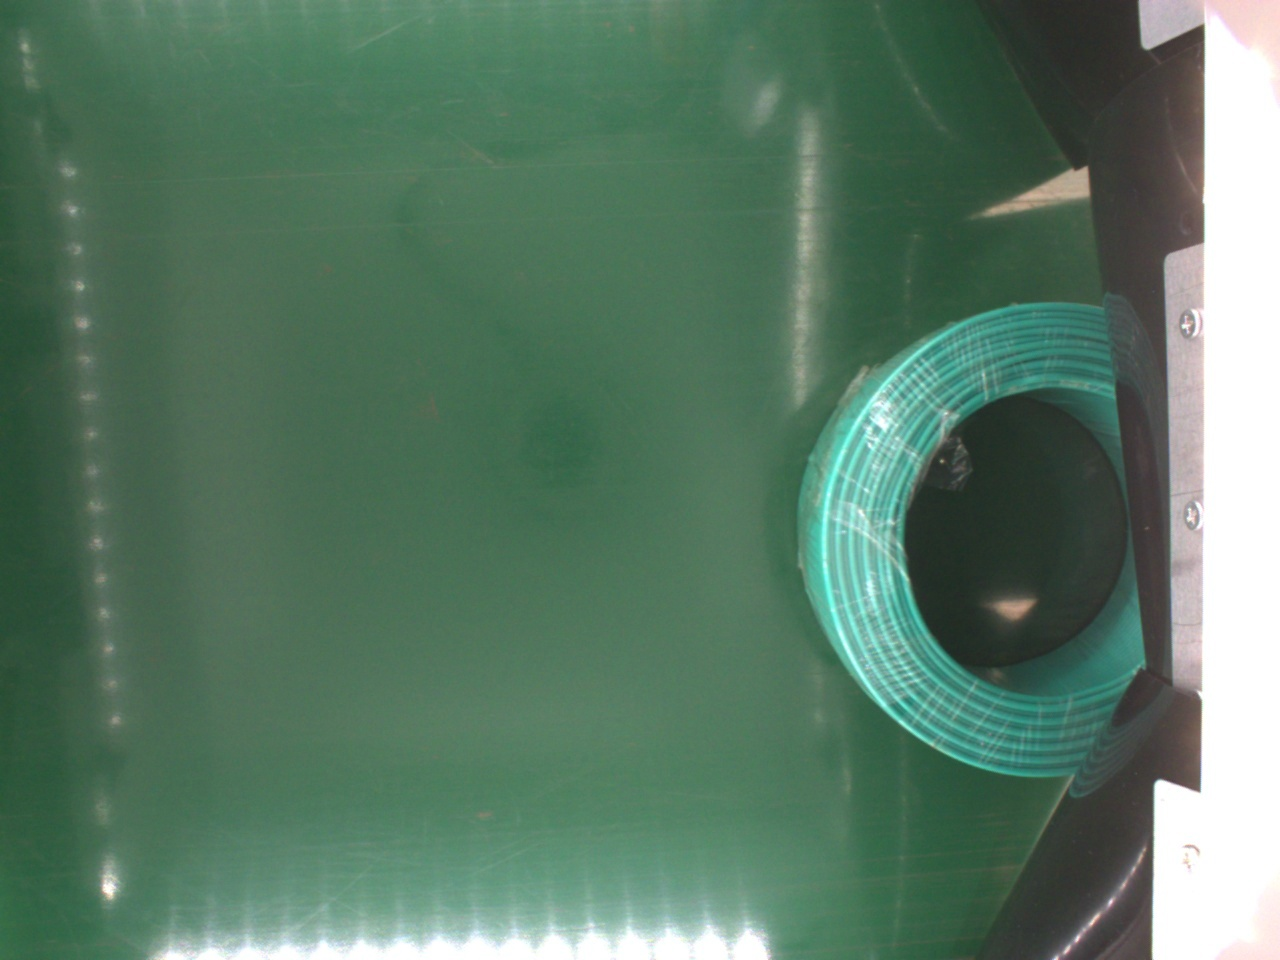green: (798, 301, 1153, 778)
